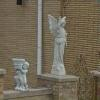Statue: (43, 9, 69, 74)
